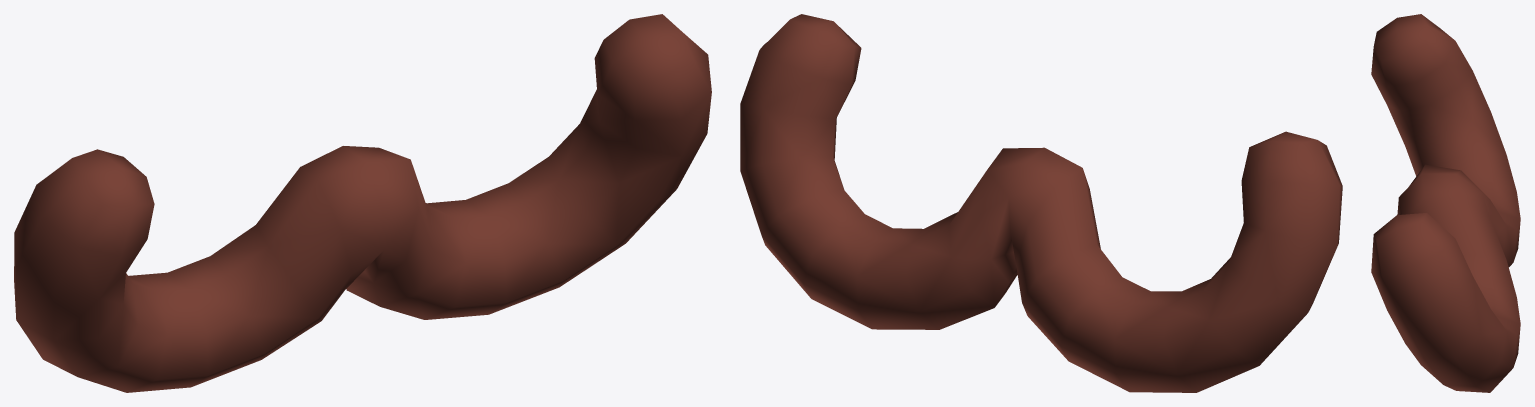
3 views of the same model, side by side, from view 1: azimuth 30°, elevation 25°; view 2: azimuth 150°, elevation 25°; view 3: azimuth 270°, elevation 25° (orthographic). The views are drawn at different scales.
Parts seen in each view (by area): view 1: mouth_3; view 2: mouth_3; view 3: mouth_3.
Boxes of the visible parts, bbox=[...] form: mouth_3: bbox=[14, 14, 711, 392]; mouth_3: bbox=[740, 14, 1342, 392]; mouth_3: bbox=[1371, 14, 1520, 392].
Size of the model in its own units: 0.4636 by 0.1838 by 0.1204.
